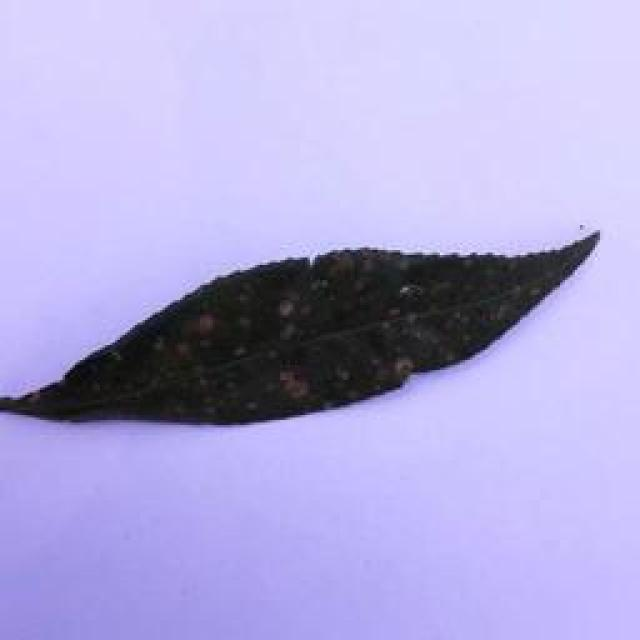Algal Leaf Spot: (9, 225, 612, 436)
